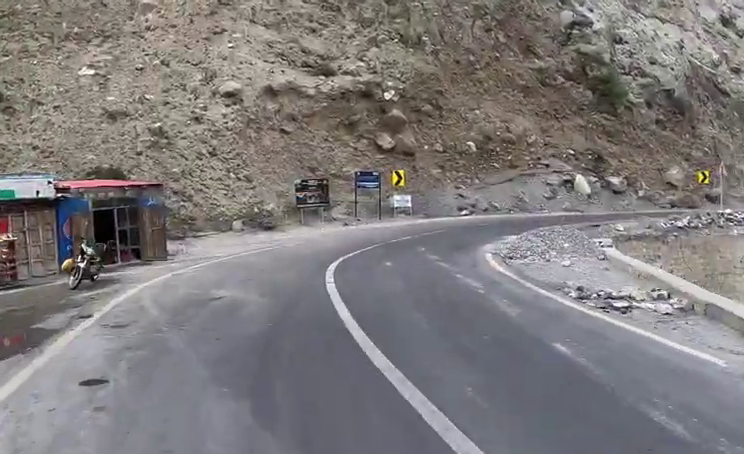stright: (286, 181, 590, 393)
